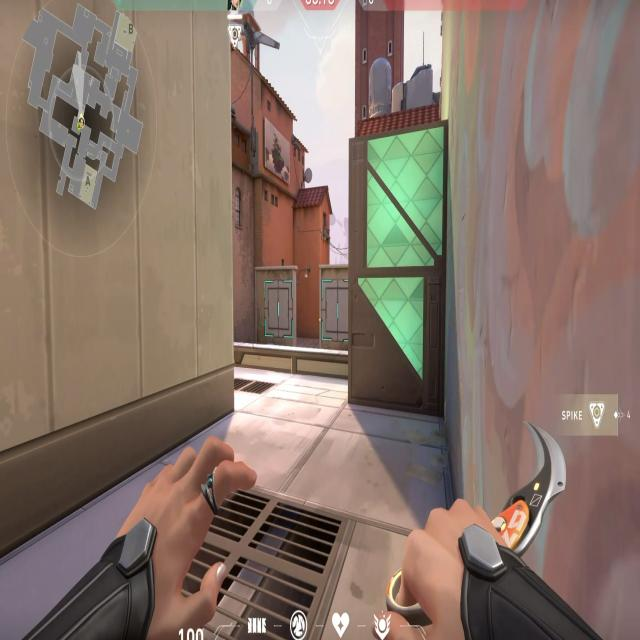Mid_Wall: (253, 261, 299, 347), (318, 268, 350, 350)
